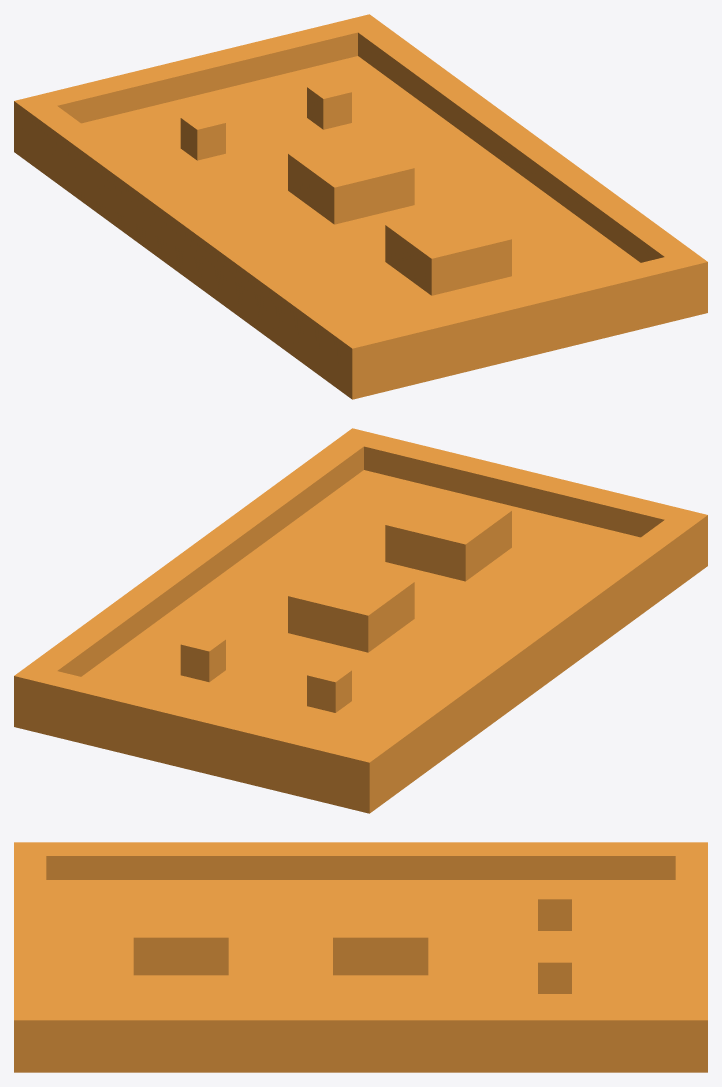
The model's file is Town_Bld-sm_Roof-Flat.FBX.
The picture shows the model from 3 angles, top to bottom: view 1: azimuth 30°, elevation 25°; view 2: azimuth 150°, elevation 25°; view 3: azimuth 270°, elevation 25°; orthographic projection. The views are drawn at different scales.
Visible parts, largest first — view 1: Town_Bld-sm_Roof-Flat; view 2: Town_Bld-sm_Roof-Flat; view 3: Town_Bld-sm_Roof-Flat.
Boxes of the visible parts, box(x1,y1,x2,y2) form: Town_Bld-sm_Roof-Flat: box(14, 14, 707, 399); Town_Bld-sm_Roof-Flat: box(14, 428, 707, 813); Town_Bld-sm_Roof-Flat: box(14, 842, 707, 1072).
Bounding box in the file's own units: 301 × 52.29 × 497.
